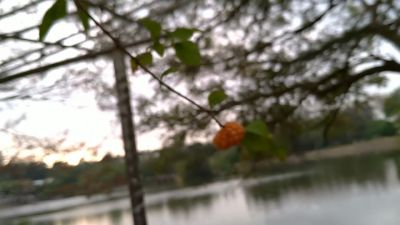eggs: (212, 121, 245, 150)
